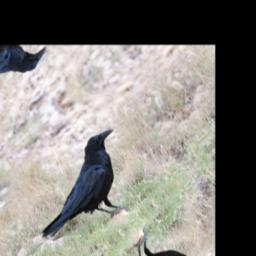Crow: (14, 122, 158, 256)
